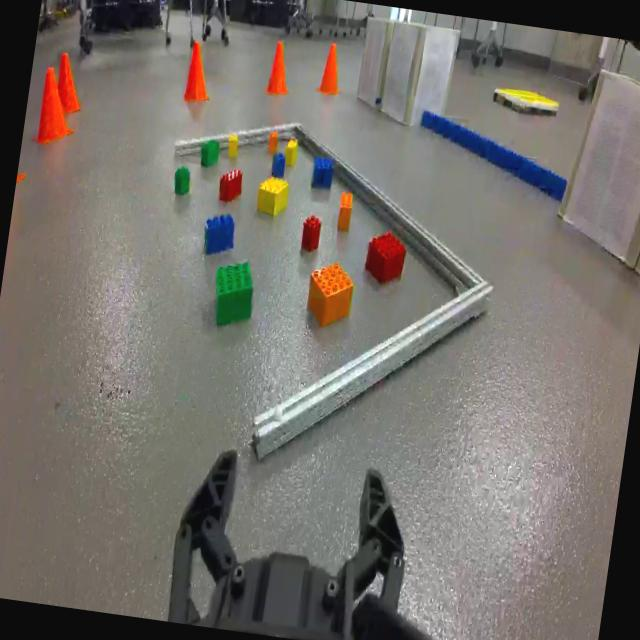block: (253, 174, 294, 222), (224, 128, 243, 164), (282, 136, 300, 170)
blue: (196, 206, 242, 258), (308, 156, 337, 193), (270, 150, 288, 182)
cone: (30, 62, 84, 156), (178, 34, 220, 110), (50, 48, 91, 119), (263, 36, 296, 106), (313, 40, 348, 102)
green: (210, 260, 258, 331), (170, 161, 197, 202), (198, 136, 225, 177)
metal barrier: (175, 119, 495, 460)
orange: (303, 258, 357, 336), (335, 186, 356, 237), (264, 128, 282, 156)
red goal: (359, 224, 411, 292), (296, 206, 326, 258), (216, 163, 244, 211)
river: (421, 107, 571, 203)
storage cube: (559, 71, 640, 272), (381, 22, 460, 128), (353, 12, 394, 112)
yellow goal: (489, 83, 564, 125)
